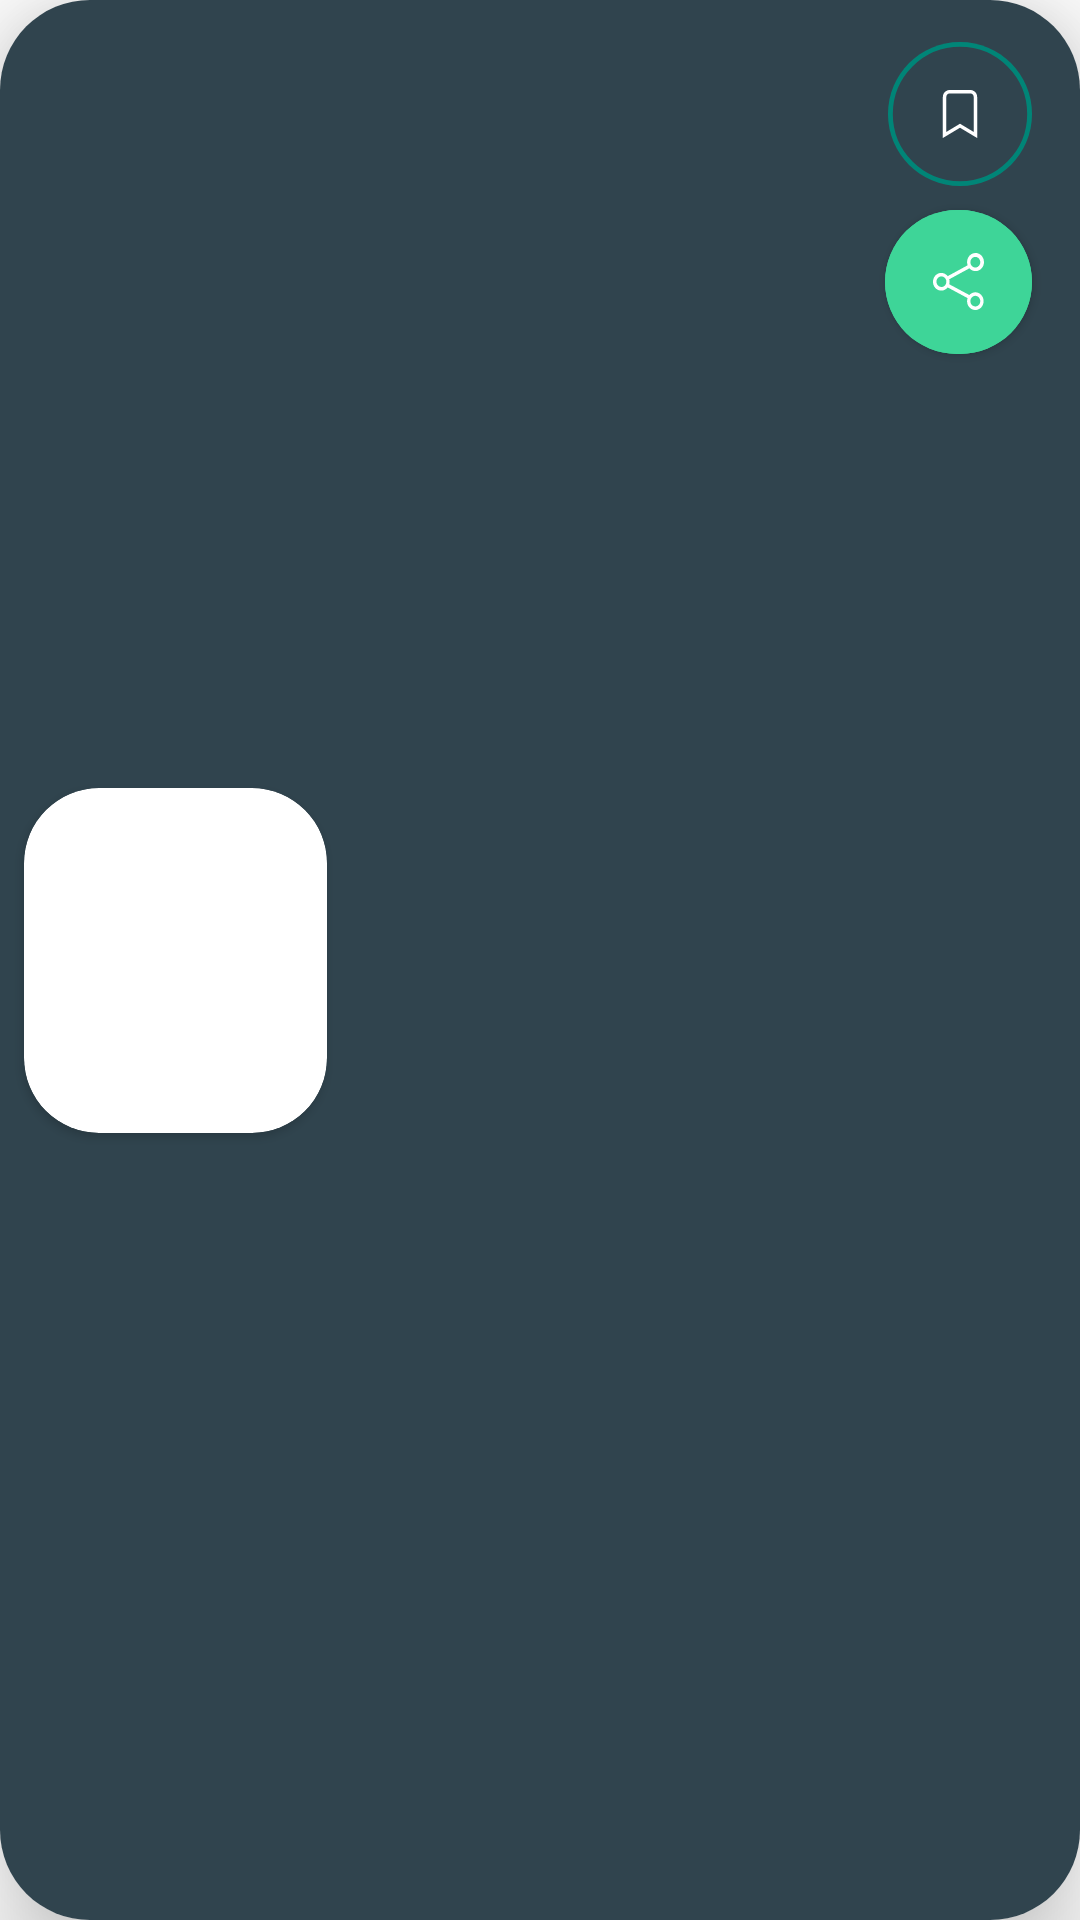

Point at icon controls on the screen. Image size 1080 × 1920, points as (x=x, y=y).
save article: (x=960, y=114)
share: (x=958, y=282)
